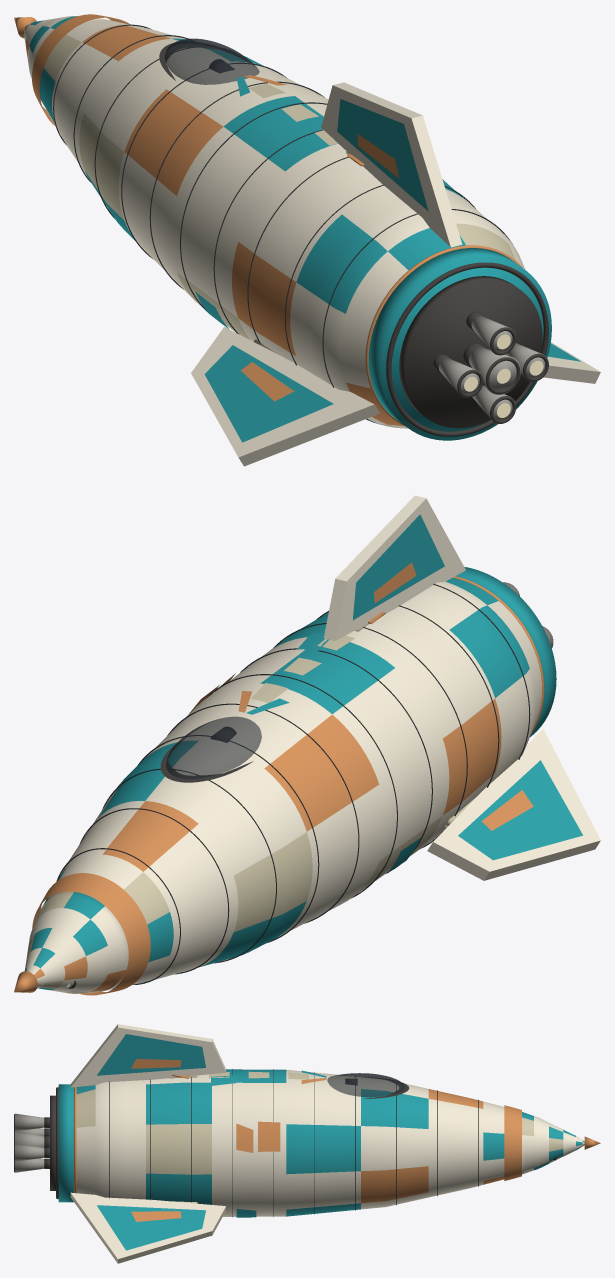
File: Ship_LunarCourier_322196.glb
3 views of the same model, one above another, from view 1: azimuth 30°, elevation 25°; view 2: azimuth 150°, elevation 25°; view 3: azimuth 270°, elevation 25° (orthographic). The views are drawn at different scales.
Parts seen in each view (by area): view 1: Fuselage_TaperedPaintedBody, EngineDeck_AftDarkMountPlate, AftCollar_PrimaryEngineBand, TailFin_LeftLower_slender_CreamAerofoil, TailFin_Dorsal_slender_CreamAerofoil, TailFinPanel_LeftLower_PrimarySide_B, TailFinPanel_Dorsal_PrimarySide_A, CanopyGlass_DorsalLowInsetDome, AftTrimRing_DarkRear, PaintBand_NosePanelBlockCollar, EngineBell_Center_BurnishedNozzle, TailFin_RightLower_slender_CreamAerofoil (+8 smaller); view 2: Fuselage_TaperedPaintedBody, NoseCone_PaintedNeedleSection, TailFin_LeftLower_slender_CreamAerofoil, TailFin_Dorsal_slender_CreamAerofoil, TailFinPanel_LeftLower_PrimarySide_B, CanopyGlass_DorsalLowInsetDome, PaintBand_NosePanelBlockCollar, TailFinPanel_Dorsal_PrimarySide_A, AftCollar_PrimaryEngineBand, TailFinTrimPatch_LeftLower_B, CanopyFrame_DorsalOvalRim; view 3: Fuselage_TaperedPaintedBody, TailFin_RightLower_slender_CreamAerofoil, TailFin_Dorsal_slender_CreamAerofoil, TailFinPanel_RightLower_PrimarySide_A, TailFinPanel_Dorsal_PrimarySide_B, NoseCone_PaintedNeedleSection, AftCollar_PrimaryEngineBand, CanopyGlass_DorsalLowInsetDome, PaintBand_NosePanelBlockCollar, PaintPanelBlock_Raised_02, EngineDeck_AftDarkMountPlate, TailFinTrimPatch_RightLower_A (+7 smaller).
Part boxes in pixels (x1,y1,x2,y2): Fuselage_TaperedPaintedBody: (39,18,525,428); EngineDeck_AftDarkMountPlate: (399,276,542,428); AftCollar_PrimaryEngineBand: (368,248,551,440); TailFin_LeftLower_slender_CreamAerofoil: (191,327,379,466); TailFin_Dorsal_slender_CreamAerofoil: (321,82,462,247); TailFinPanel_LeftLower_PrimarySide_B: (204,345,333,442); TailFinPanel_Dorsal_PrimarySide_A: (337,99,428,211); CanopyGlass_DorsalLowInsetDome: (165,38,259,84); AftTrimRing_DarkRear: (386,262,548,436); PaintBand_NosePanelBlockCollar: (32,14,130,126); EngineBell_Center_BurnishedNozzle: (469,347,520,394); TailFin_RightLower_slender_CreamAerofoil: (543,342,600,383); Fuselage_TaperedPaintedBody: (43,577,541,990); NoseCone_PaintedNeedleSection: (24,891,128,993); TailFin_LeftLower_slender_CreamAerofoil: (427,729,600,880); TailFin_Dorsal_slender_CreamAerofoil: (324,495,465,640); TailFinPanel_LeftLower_PrimarySide_B: (458,760,582,860); CanopyGlass_DorsalLowInsetDome: (166,716,261,778); PaintBand_NosePanelBlockCollar: (32,873,150,995); TailFinPanel_Dorsal_PrimarySide_A: (352,514,444,620); AftCollar_PrimaryEngineBand: (455,567,556,736); TailFinTrimPatch_LeftLower_B: (481,790,533,830); CanopyFrame_DorsalOvalRim: (160,743,253,782); Fuselage_TaperedPaintedBody: (76,1069,504,1216); TailFin_RightLower_slender_CreamAerofoil: (70,1192,225,1263); TailFin_Dorsal_slender_CreamAerofoil: (70,1024,225,1087); TailFinPanel_RightLower_PrimarySide_A: (97,1205,205,1250); TailFinPanel_Dorsal_PrimarySide_B: (97,1034,205,1075); NoseCone_PaintedNeedleSection: (522,1112,584,1174); AftCollar_PrimaryEngineBand: (58,1084,73,1202); CanopyGlass_DorsalLowInsetDome: (327,1073,404,1097); PaintBand_NosePanelBlockCollar: (504,1105,521,1180); PaintPanelBlock_Raised_02: (258,1121,280,1151); EngineDeck_AftDarkMountPlate: (50,1095,55,1190); TailFinTrimPatch_RightLower_A: (131,1211,181,1221).
Bounding box in the file's own units: 3.75 × 3.07 × 8.78.
